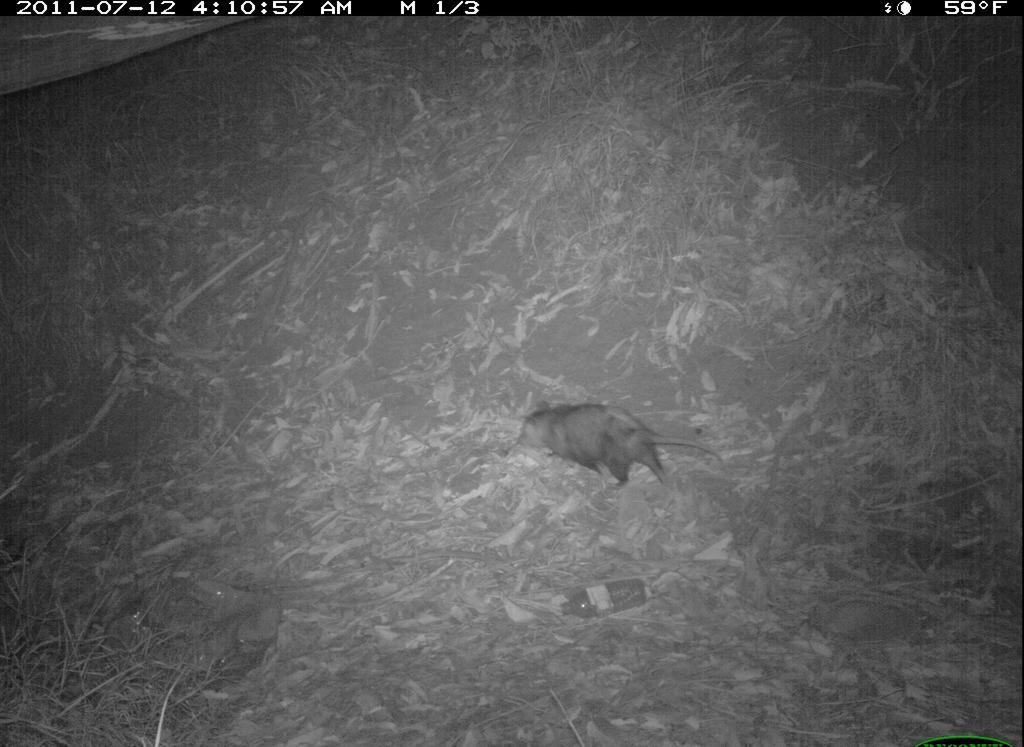opossum: (501, 391, 739, 505)
